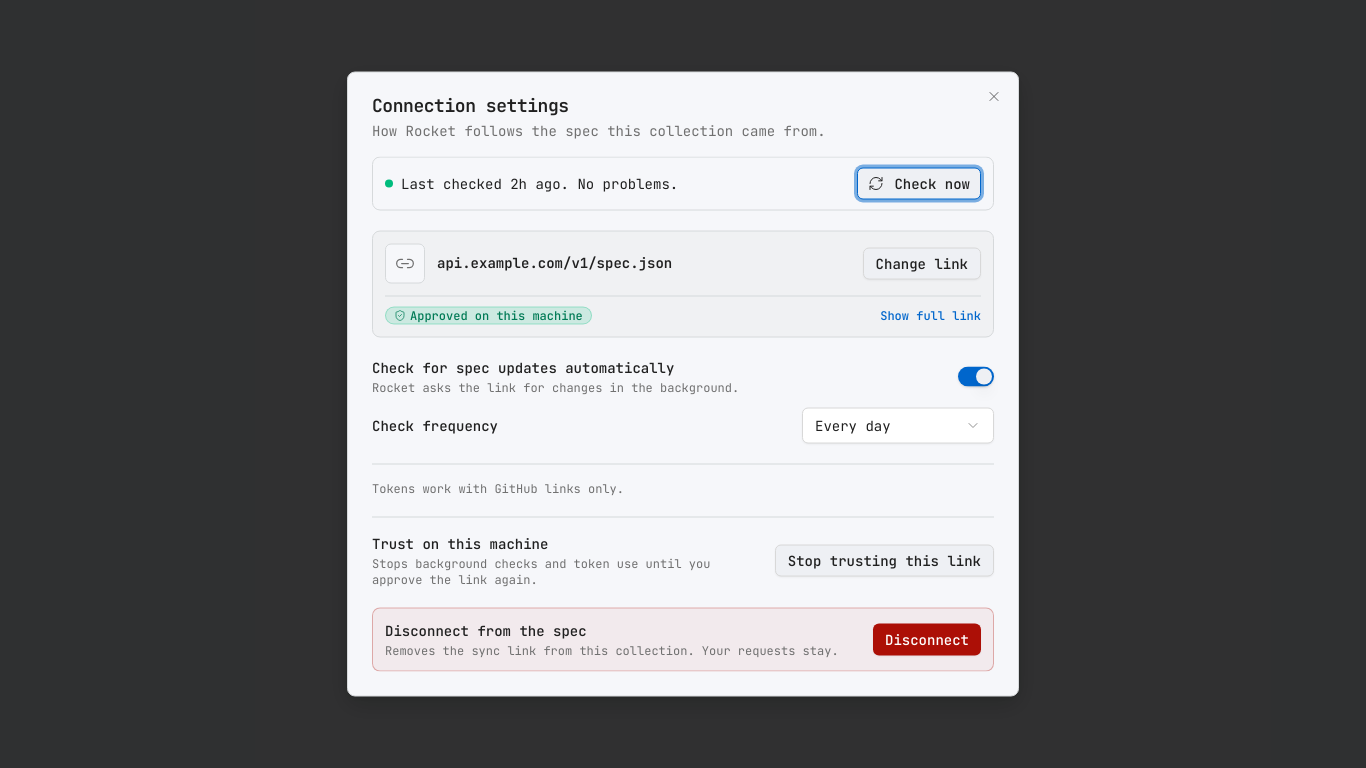
Test: OpenApiSyncConnectionDialog › shows the location with the query behind Show full link
This screenshot has width=1366, height=768.
expect the text "api.example.com/v1/spec.json" is shown: met, box [437,254,672,272]
expect the text "token=abc" is not shown: met
Click the button "Show full link" at (931, 316), box [880,308,981,324]
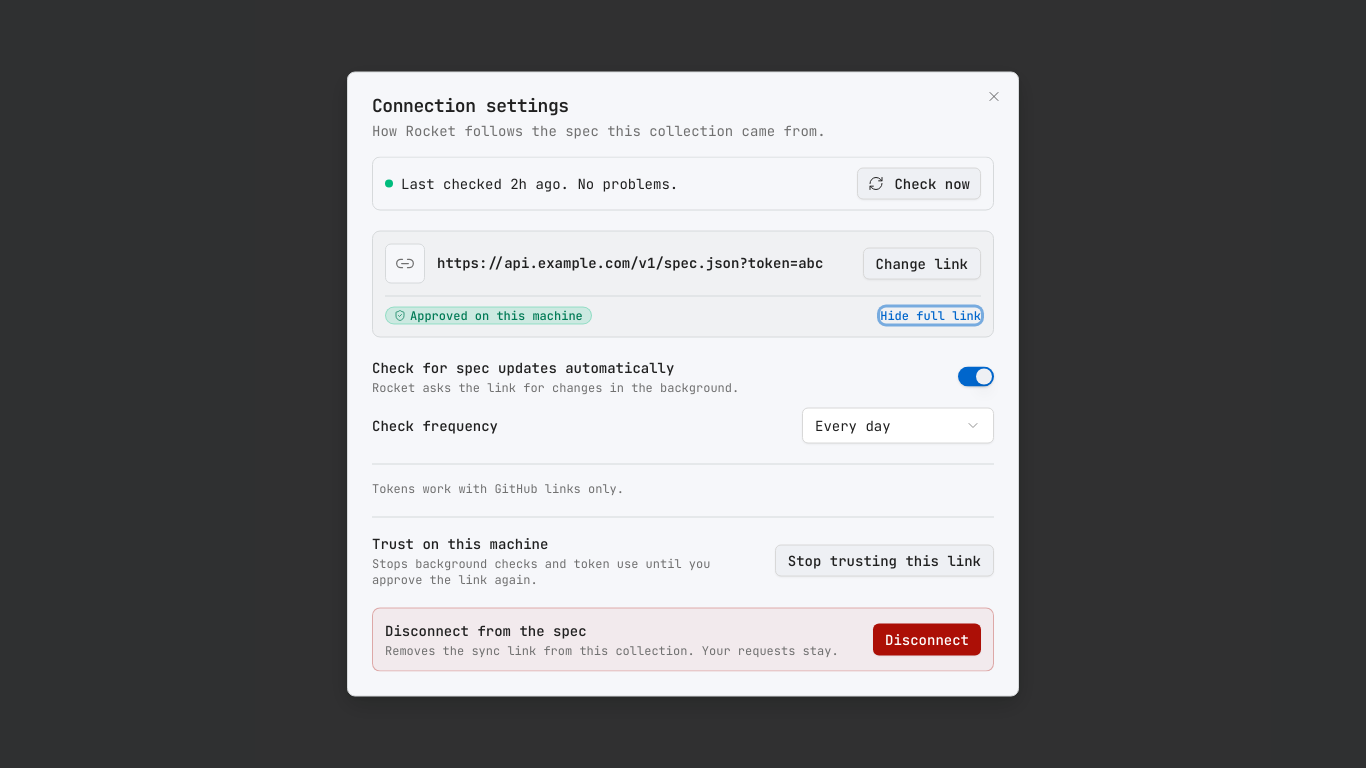
expect the text "https://api.example.com/v1/spec.json?token=abc" is shown: met, box [437,254,851,273]
